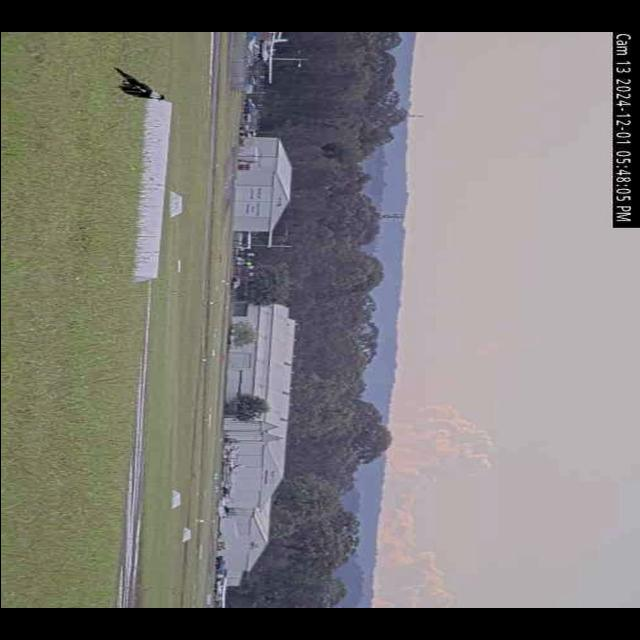Birds-Other: (107, 66, 168, 102)
